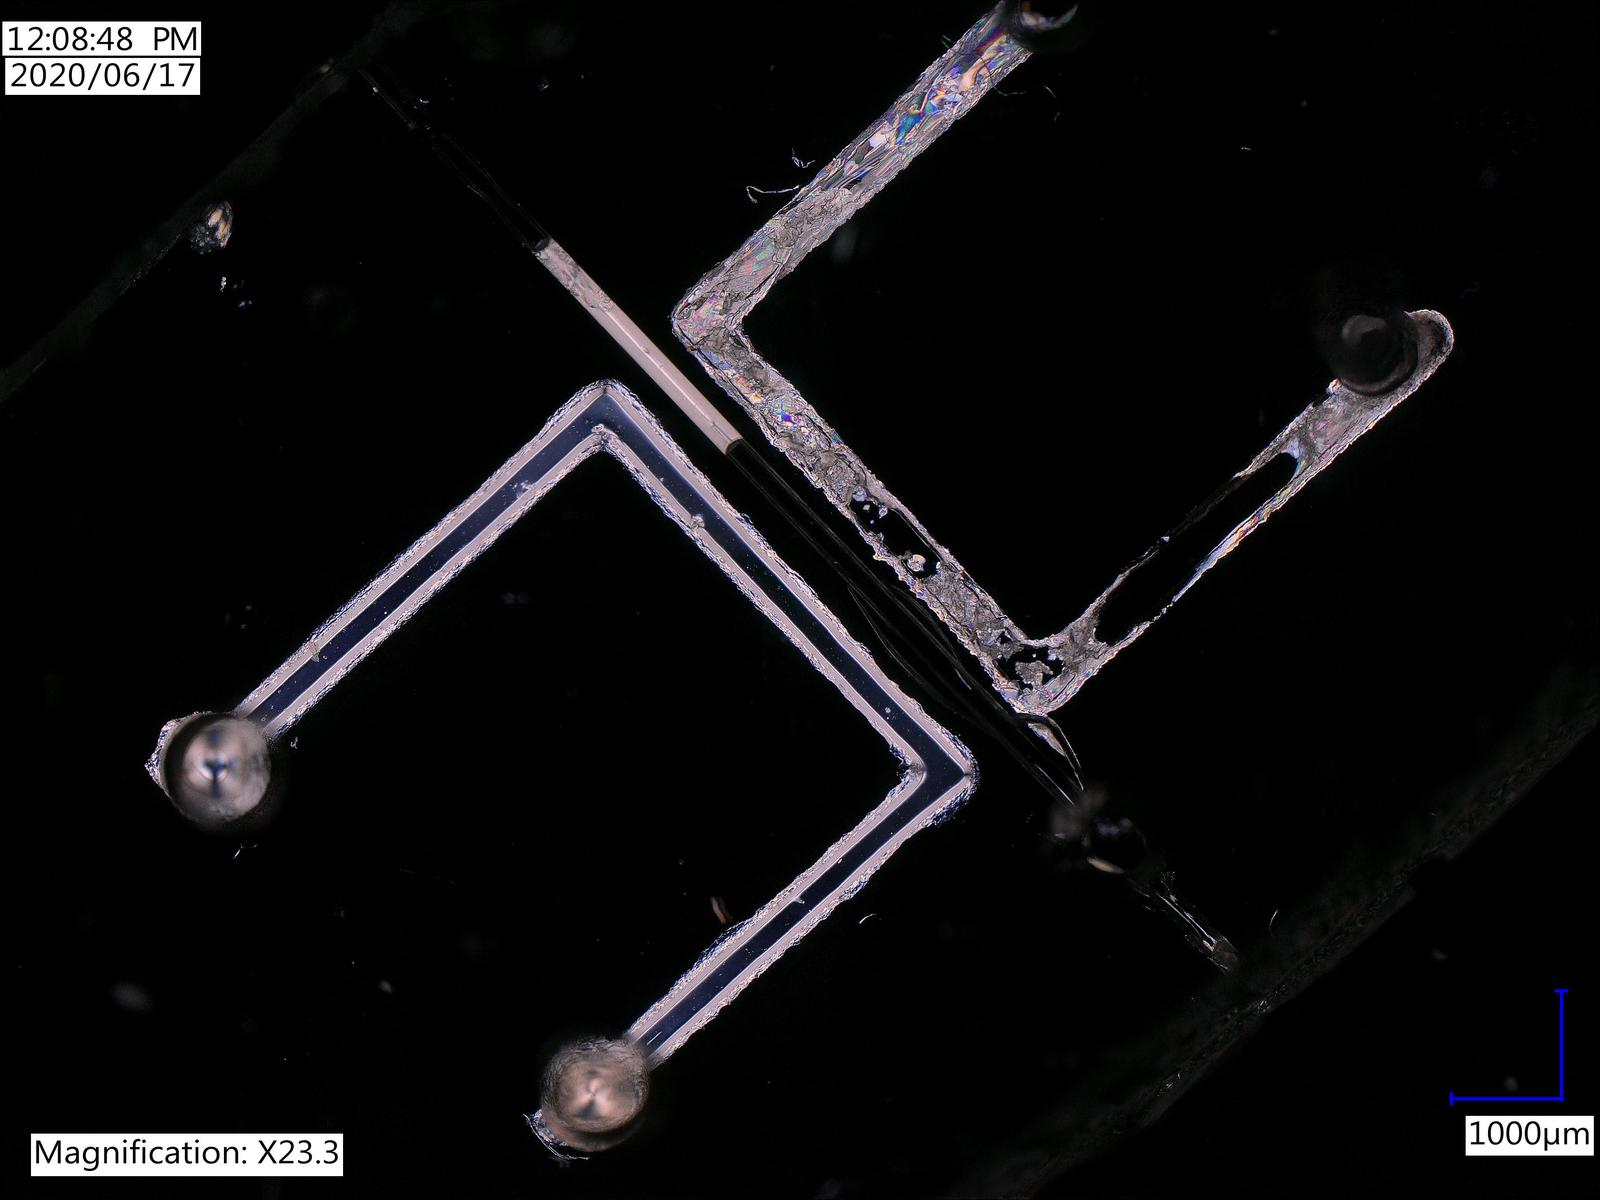sediment: (917, 567, 1020, 655), (776, 421, 862, 494), (689, 326, 769, 384), (1060, 608, 1104, 669), (1295, 410, 1346, 463), (1015, 661, 1052, 687)
